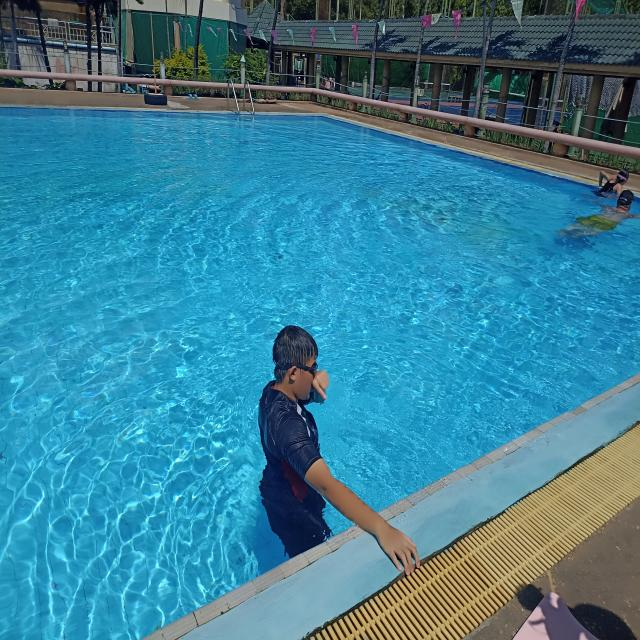Swimming: (560, 191, 639, 245), (592, 162, 632, 205)
